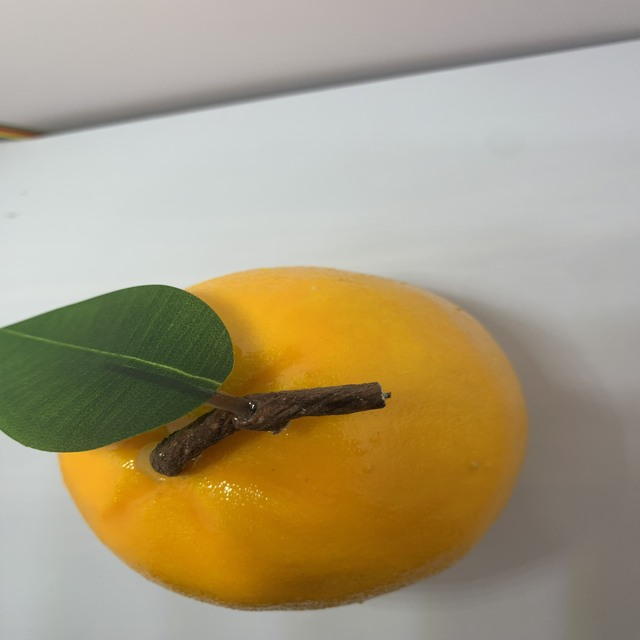Cam vang: (49, 253, 534, 616)
